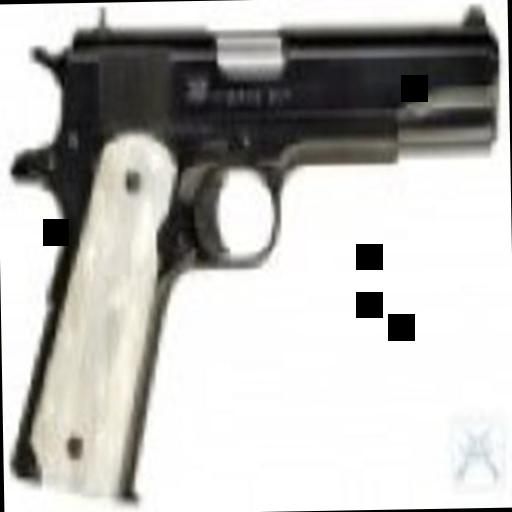Handgun: (4, 0, 505, 497)
